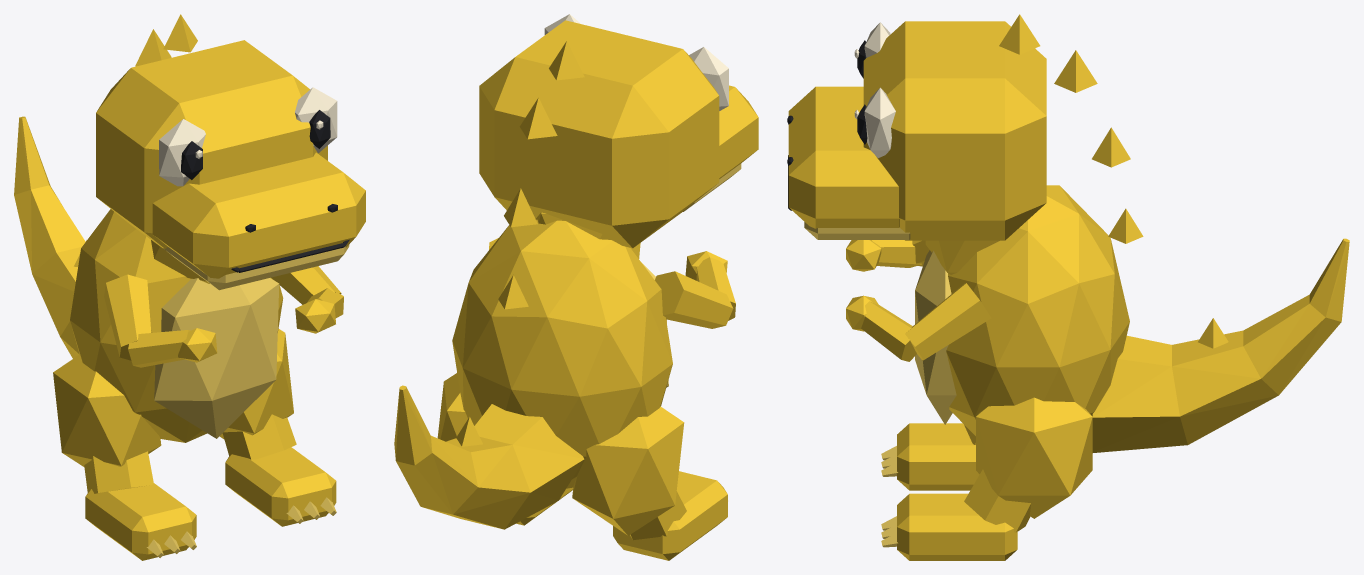
Rendered from Dinosaure_jaune.glb.
3 renders of one model, left to right at view 1: azimuth 30°, elevation 25°; view 2: azimuth 150°, elevation 25°; view 3: azimuth 270°, elevation 25°, orthographic. The views are drawn at different scales.
Visible parts, largest first — view 1: Dinosaure_jaune; view 2: Dinosaure_jaune; view 3: Dinosaure_jaune.
Boxes of the visible parts, x1,y1,x2,y2 form: Dinosaure_jaune: (14,14,365,560); Dinosaure_jaune: (394,14,758,560); Dinosaure_jaune: (787,14,1349,560).
Size of the model in its own units: 1.28 by 2.66 by 2.7.
